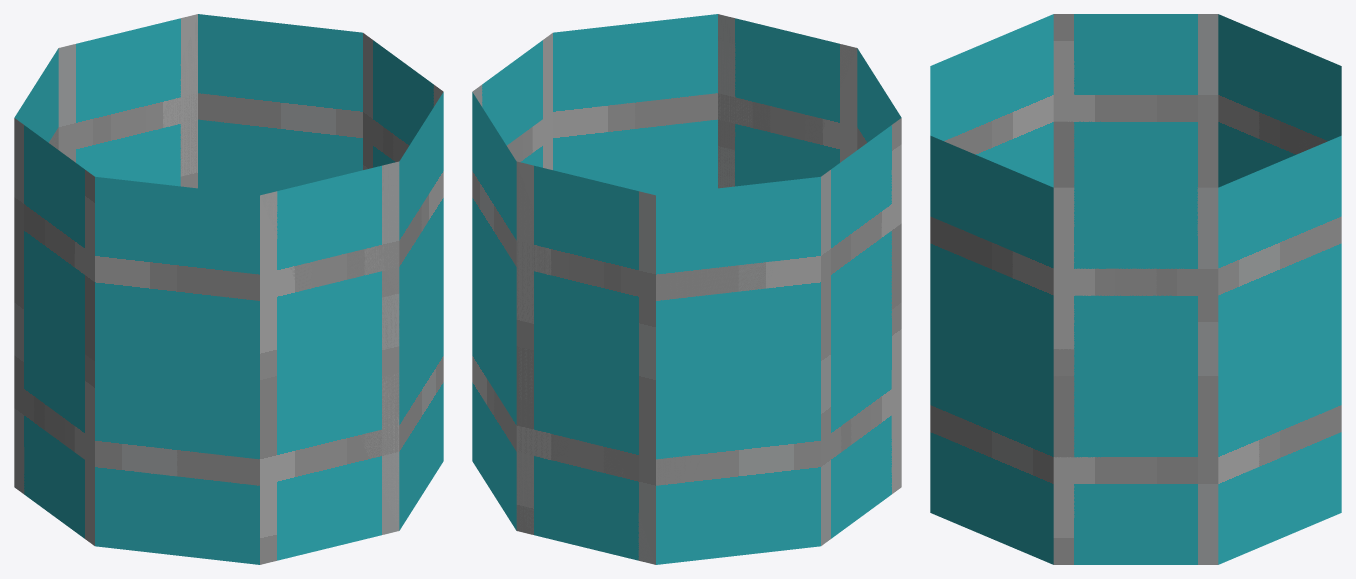
File: viaduct_connected_long.obj
3 renders of one model, left to right at view 1: azimuth 30°, elevation 25°; view 2: azimuth 150°, elevation 25°; view 3: azimuth 270°, elevation 25°, orthographic. The views are drawn at different scales.
Parts seen in each view (by area): view 1: Cube.001; view 2: Cube.001; view 3: Cube.001.
Boxes of the visible parts, x1,y1,x2,y2 form: Cube.001: (14, 14, 443, 564); Cube.001: (472, 14, 901, 564); Cube.001: (930, 14, 1341, 564).
Size of the model in its own units: 0.9875 by 1 by 0.9875.
